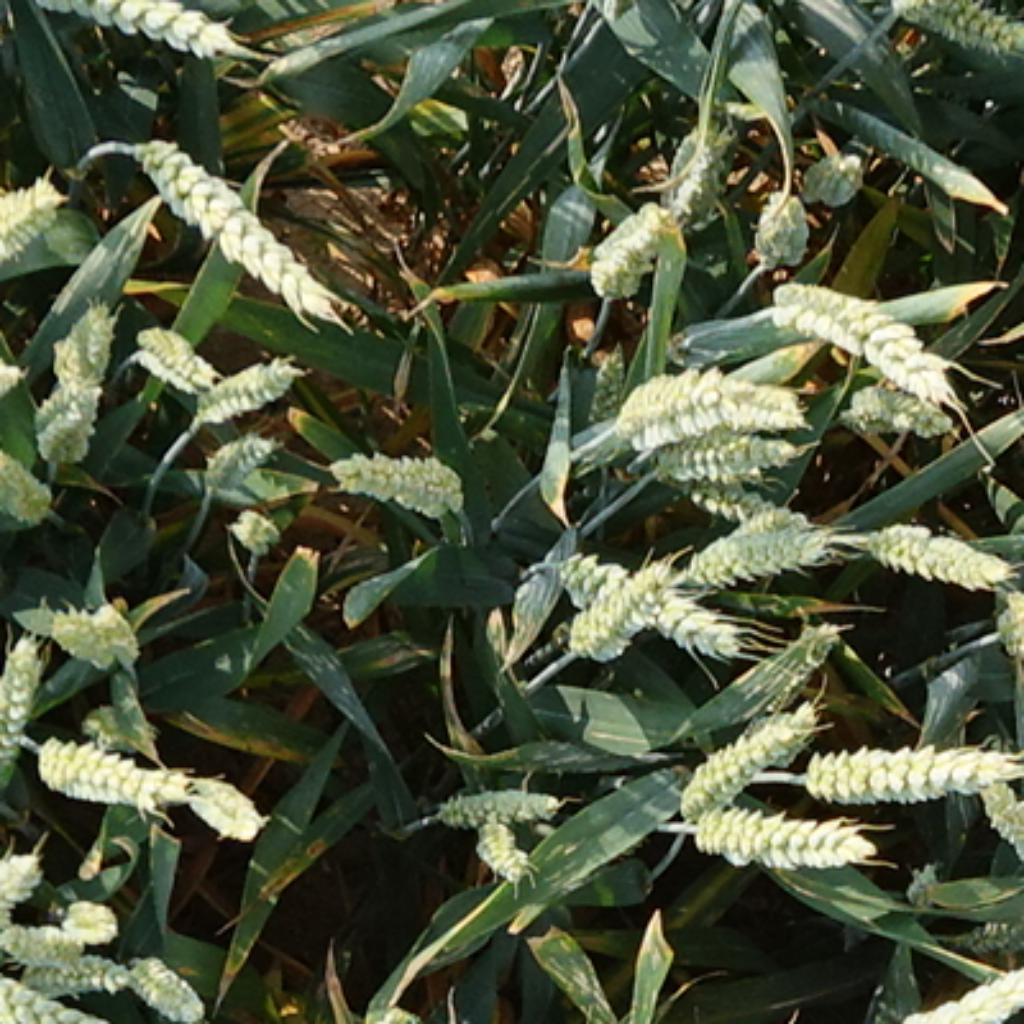0-0: (122, 120, 363, 337), (599, 350, 806, 468), (552, 548, 739, 669), (770, 279, 954, 401), (796, 727, 1024, 803), (675, 691, 821, 801), (680, 791, 880, 870), (560, 558, 701, 663), (33, 2, 253, 69), (678, 465, 832, 555), (640, 414, 811, 491), (25, 727, 184, 806), (865, 514, 1018, 591), (688, 517, 847, 586), (327, 446, 467, 523), (581, 197, 678, 304), (652, 107, 742, 217), (25, 348, 110, 460), (884, 2, 1024, 61), (832, 371, 957, 435), (192, 345, 302, 417), (892, 964, 1022, 1024), (432, 773, 563, 832), (2, 622, 48, 788), (43, 591, 143, 663), (51, 289, 122, 389), (2, 975, 145, 1024), (184, 780, 273, 857), (7, 944, 128, 1000), (117, 939, 204, 1016), (2, 166, 69, 261), (130, 312, 212, 386), (2, 911, 104, 970), (750, 179, 816, 261), (199, 419, 279, 486), (576, 343, 642, 422), (458, 816, 535, 883), (975, 770, 1024, 872), (793, 138, 867, 204), (2, 442, 56, 519), (225, 494, 286, 550), (53, 888, 117, 939), (2, 839, 48, 906), (989, 578, 1023, 660), (961, 923, 1024, 957), (2, 343, 28, 409), (910, 861, 944, 903)
